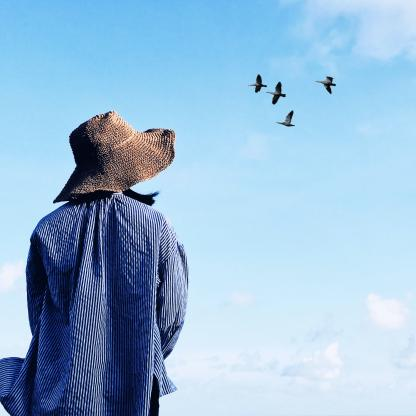bird: (266, 82, 286, 104), (248, 74, 267, 93), (316, 76, 336, 94), (275, 110, 296, 127)
